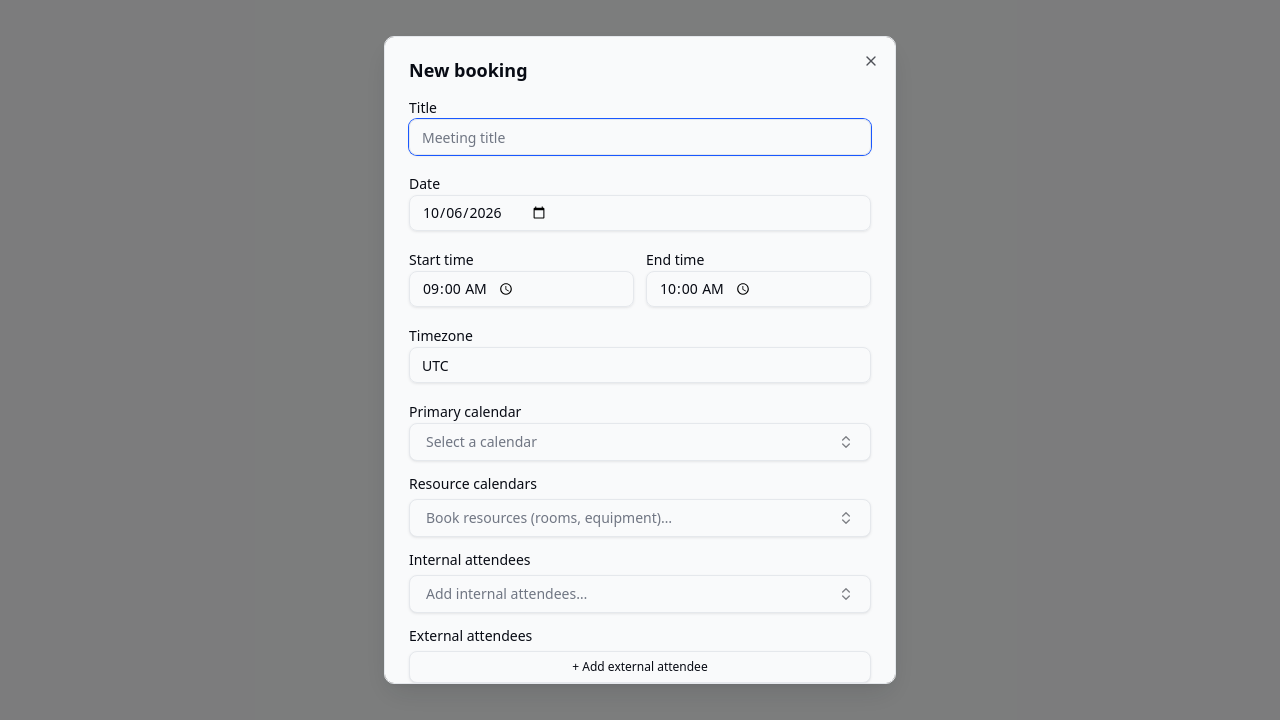
Scenario: BookingFormDialog › conflict detection and override flow › shows ConflictSurface when availability check returns conflicts
Expected: the dropdown named "primary calendar" is shown, [409,423,871,461]
// Fill in required fields
Type "My Meeting" into the field labelled "Title" at coordinates (640, 137), box [409,119,871,155]
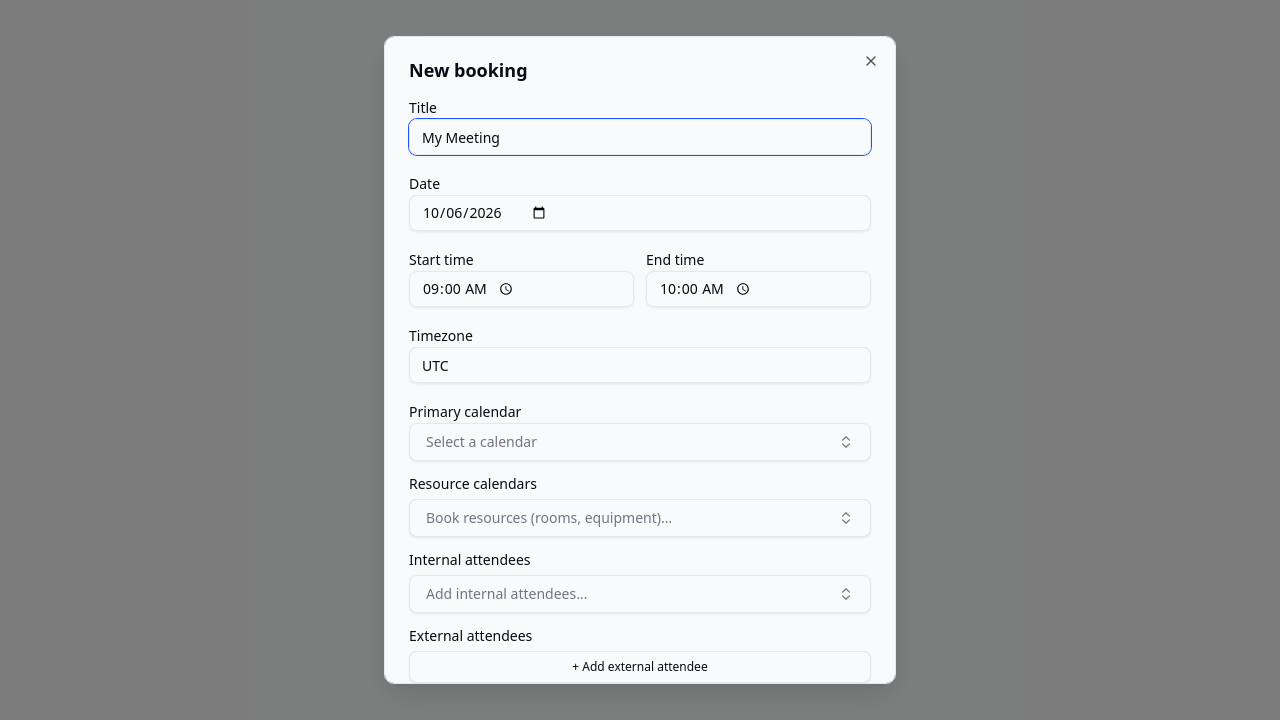
// Select the primary calendar
Click the dropdown named "primary calendar" at coordinates (481, 442), box [409,423,871,461]
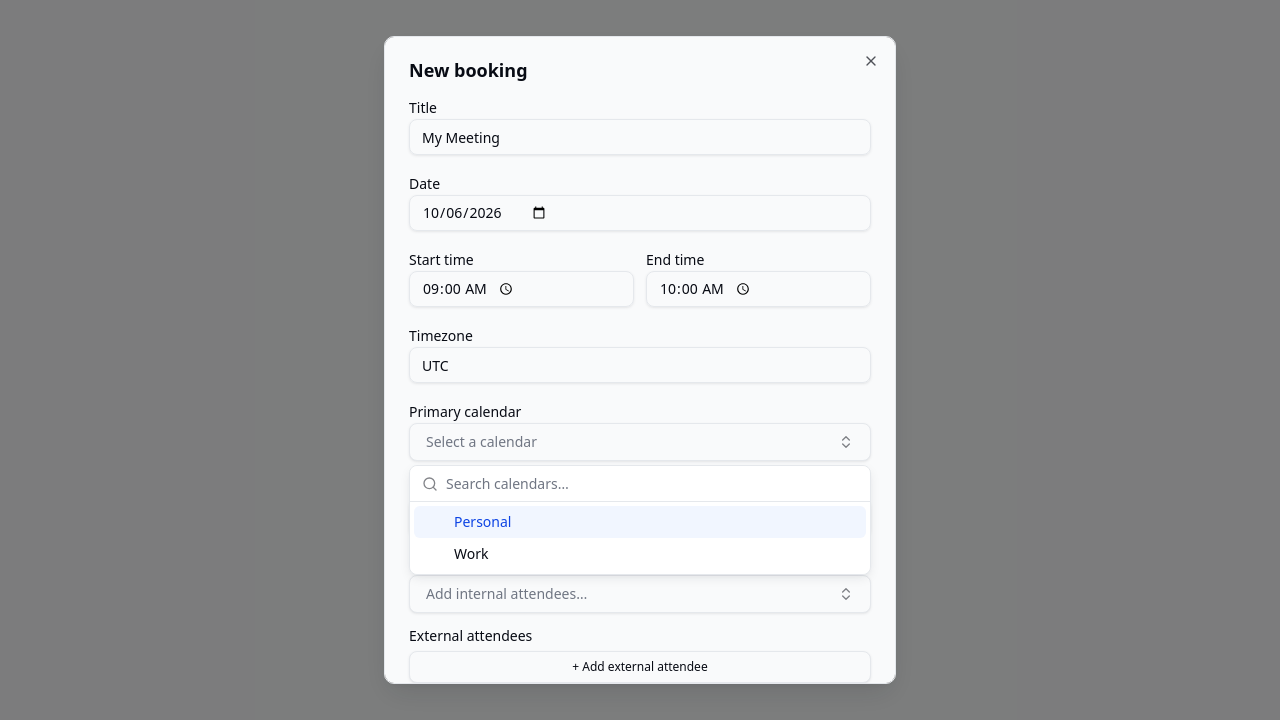
Now the option "Personal" is shown
Click the option "Personal" at coordinates (483, 522), box [414,506,866,538]
(page scrolled)
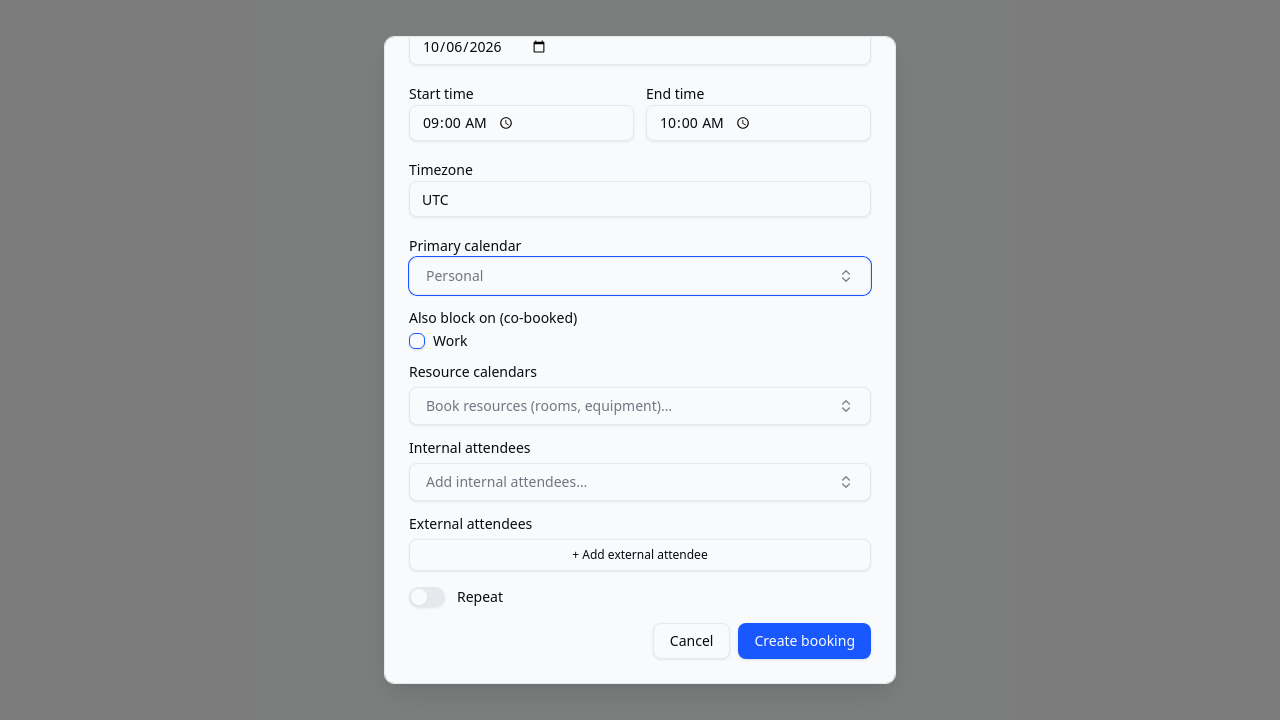
Click the button "Create booking" at coordinates (805, 641), box [738,623,871,659]
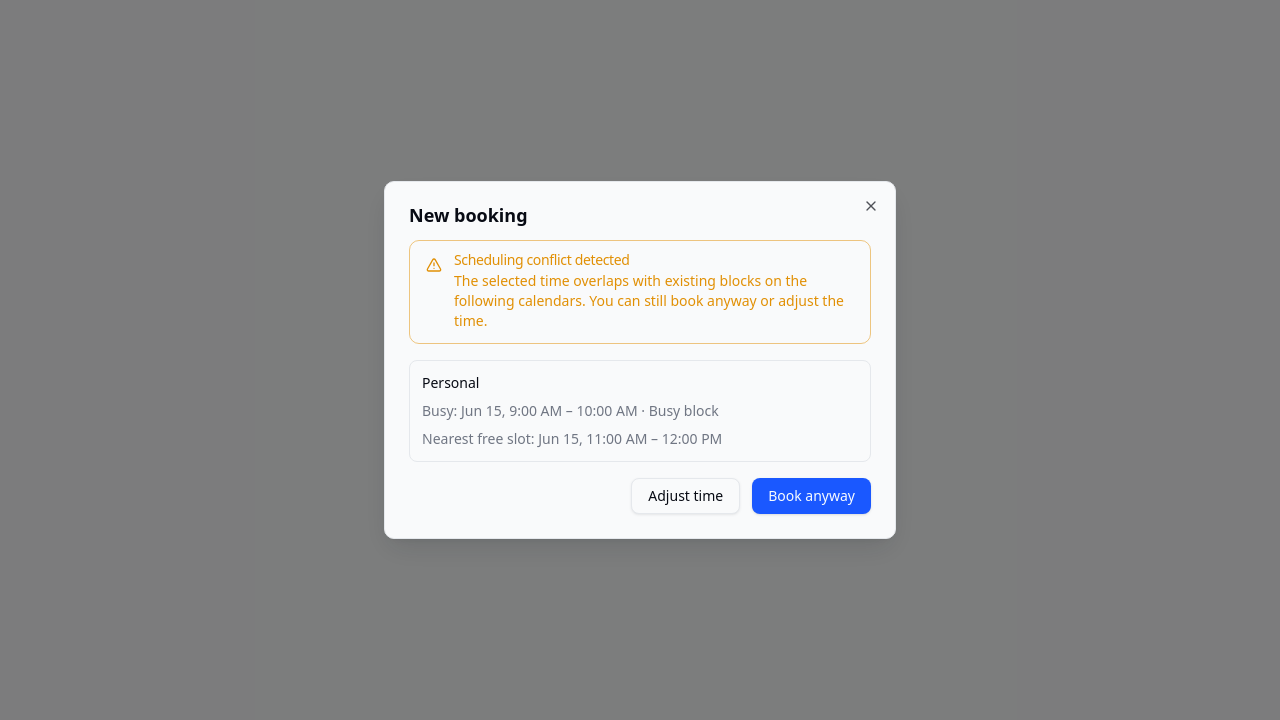
Now the element with test id "conflict-surface" is shown, box [409,240,871,514]
Now the button "Book anyway" is shown, box [752,478,871,514]
